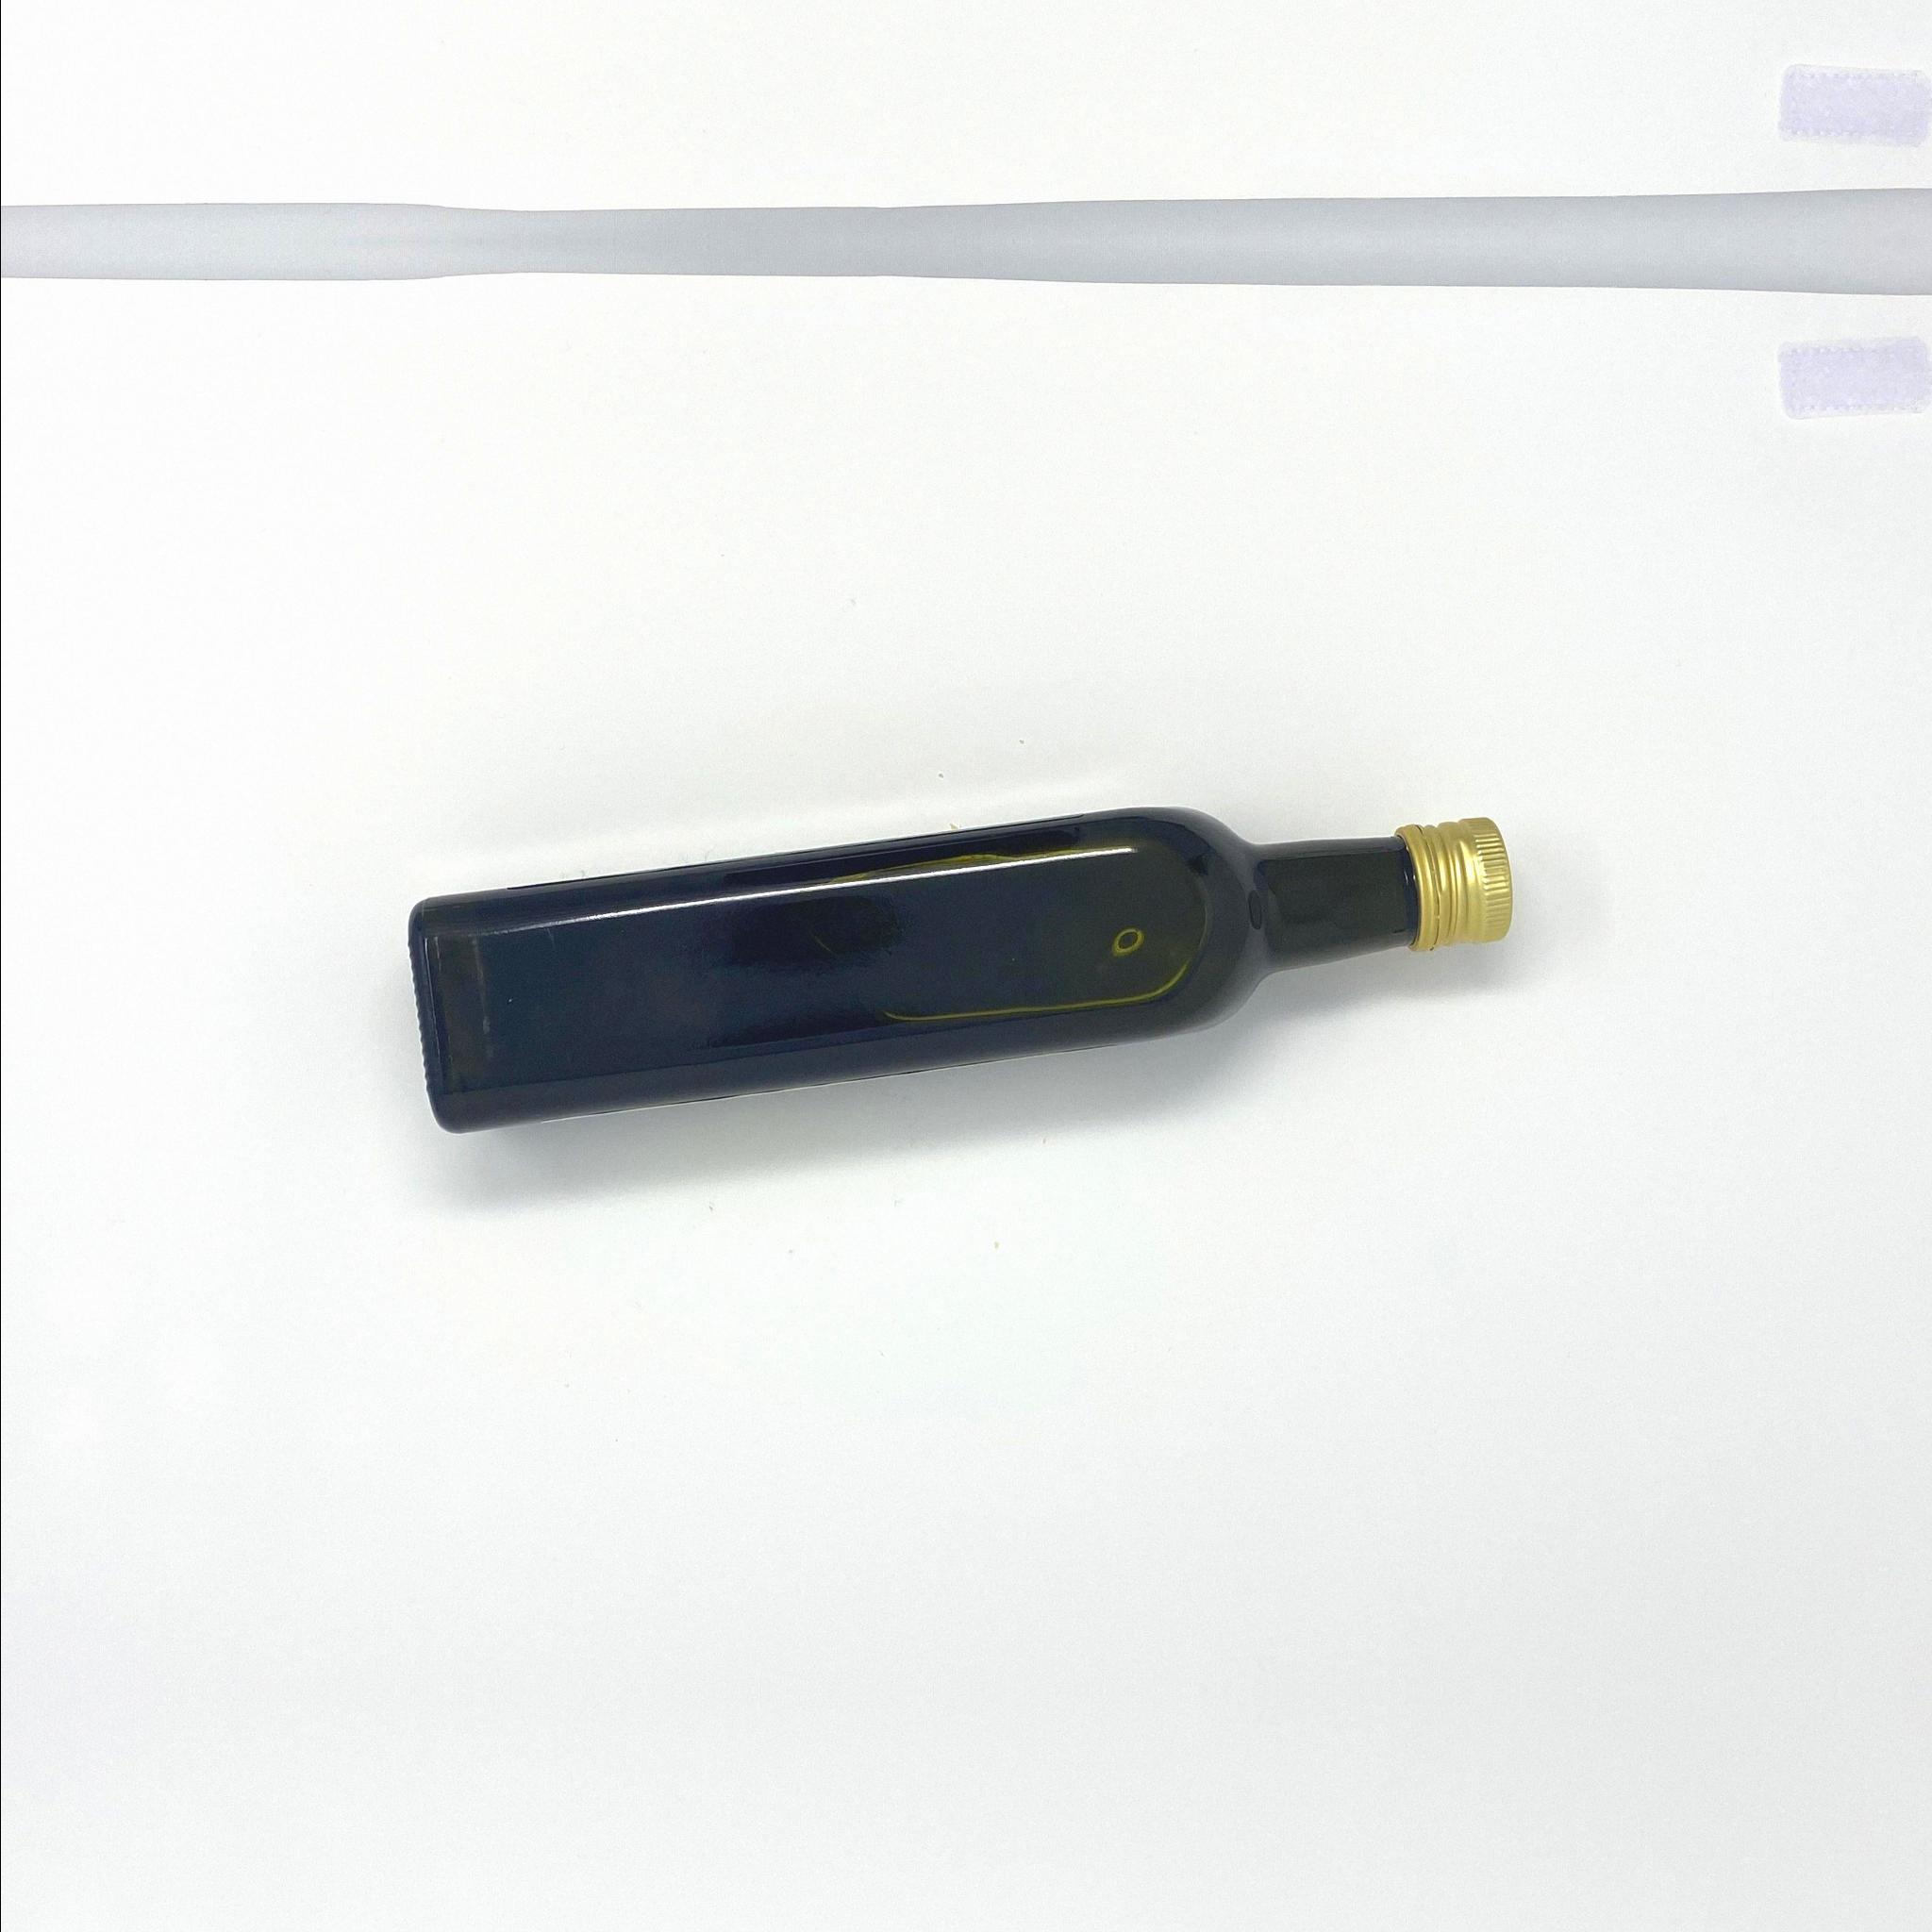glass: (407, 805, 1514, 1136)
oil: (407, 805, 1514, 1136)
sodocalcique: (407, 805, 1514, 1136)
